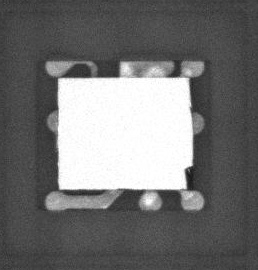DIE_BROKEN: (186, 78, 193, 128), (183, 166, 193, 189)
